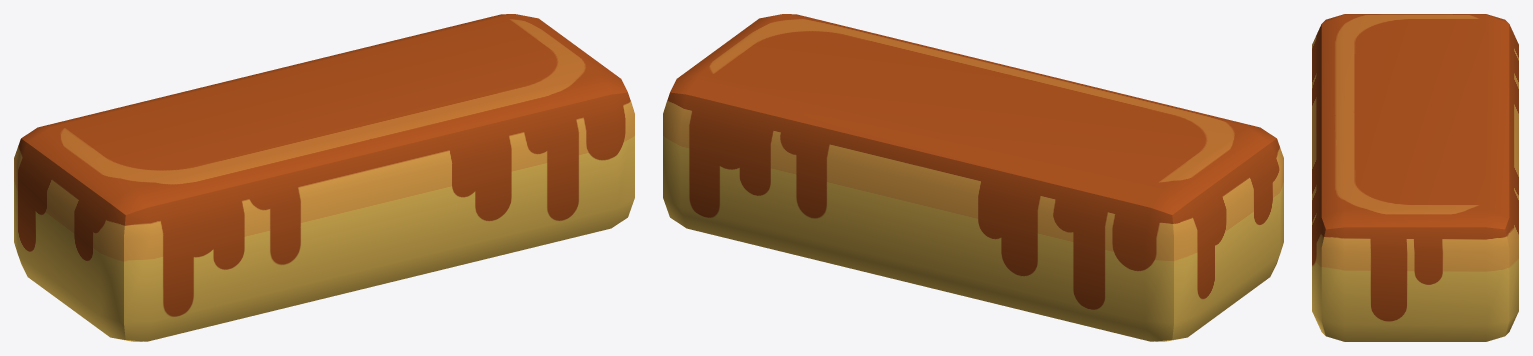
File: SM_SweetSkin_02.fbx
3 views of the same model, side by side, from view 1: azimuth 30°, elevation 25°; view 2: azimuth 150°, elevation 25°; view 3: azimuth 270°, elevation 25° (orthographic). The views are drawn at different scales.
Visible parts, largest first — view 1: SweetSkin_02; view 2: SweetSkin_02; view 3: SweetSkin_02.
Part boxes in pixels (left/top/right/bottom): SweetSkin_02: left=14, top=14, right=634, bottom=341; SweetSkin_02: left=663, top=14, right=1283, bottom=341; SweetSkin_02: left=1312, top=14, right=1518, bottom=341.
Bounding box in the file's own units: 17.99 × 5 × 7.1.
